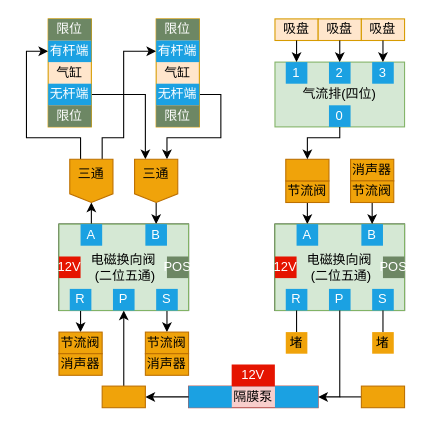
This 424x448 diagram has some shape labels left out. The centre of each missing label's shape, as x and y in pixels:
压气端: the point at 209,396
真空端: the point at 296,396
真空计: the point at 382,396
调压阀: the point at 123,396
过滤器: the point at 307,169
